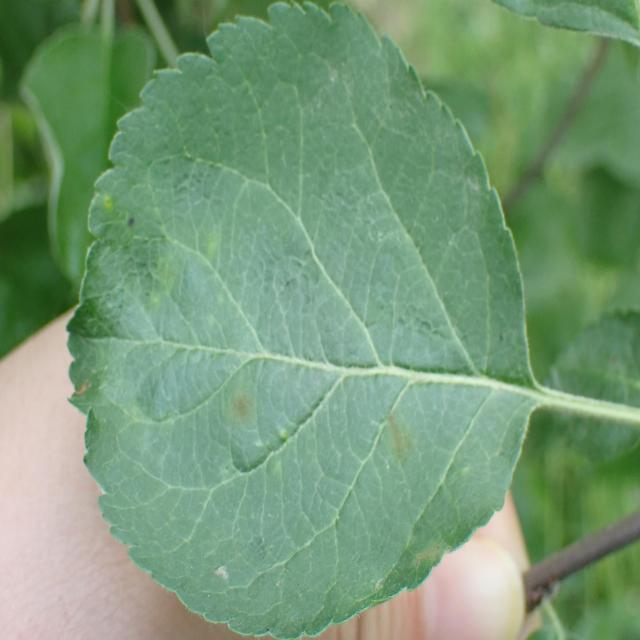scab: (95, 102, 481, 594)
